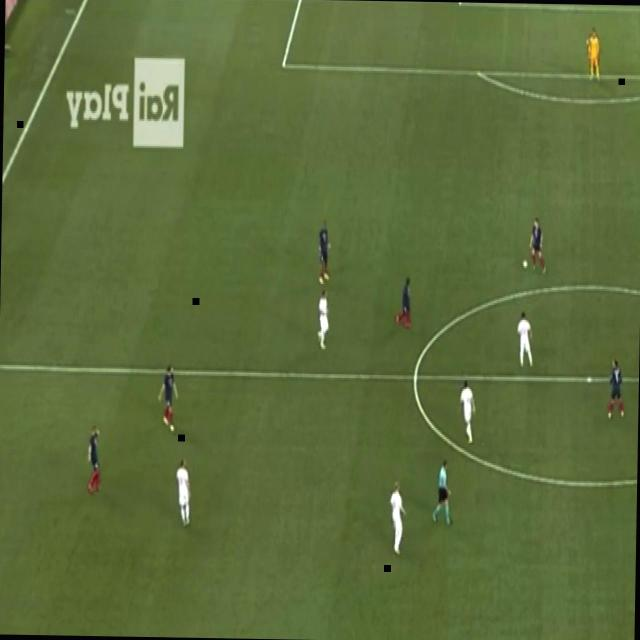ball: (522, 257, 528, 271)
player-white: (430, 460, 454, 528), (158, 364, 180, 434), (388, 482, 408, 556), (174, 458, 193, 527), (607, 358, 626, 421), (86, 425, 103, 495), (516, 311, 536, 370), (459, 380, 477, 445), (528, 217, 548, 275), (315, 289, 331, 353), (395, 275, 413, 331), (318, 219, 332, 285), (586, 27, 602, 83)
